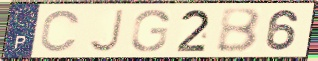2: (176, 8, 211, 53)
6: (265, 8, 302, 53)
B: (215, 7, 263, 55)
C: (38, 8, 83, 54)
G: (129, 8, 172, 53)
J: (86, 8, 126, 54)
